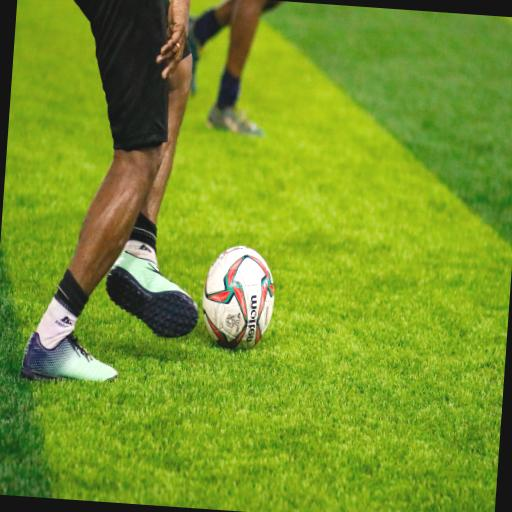shoe: (105, 252, 197, 337), (20, 333, 116, 381), (206, 104, 263, 137), (186, 17, 199, 93)
